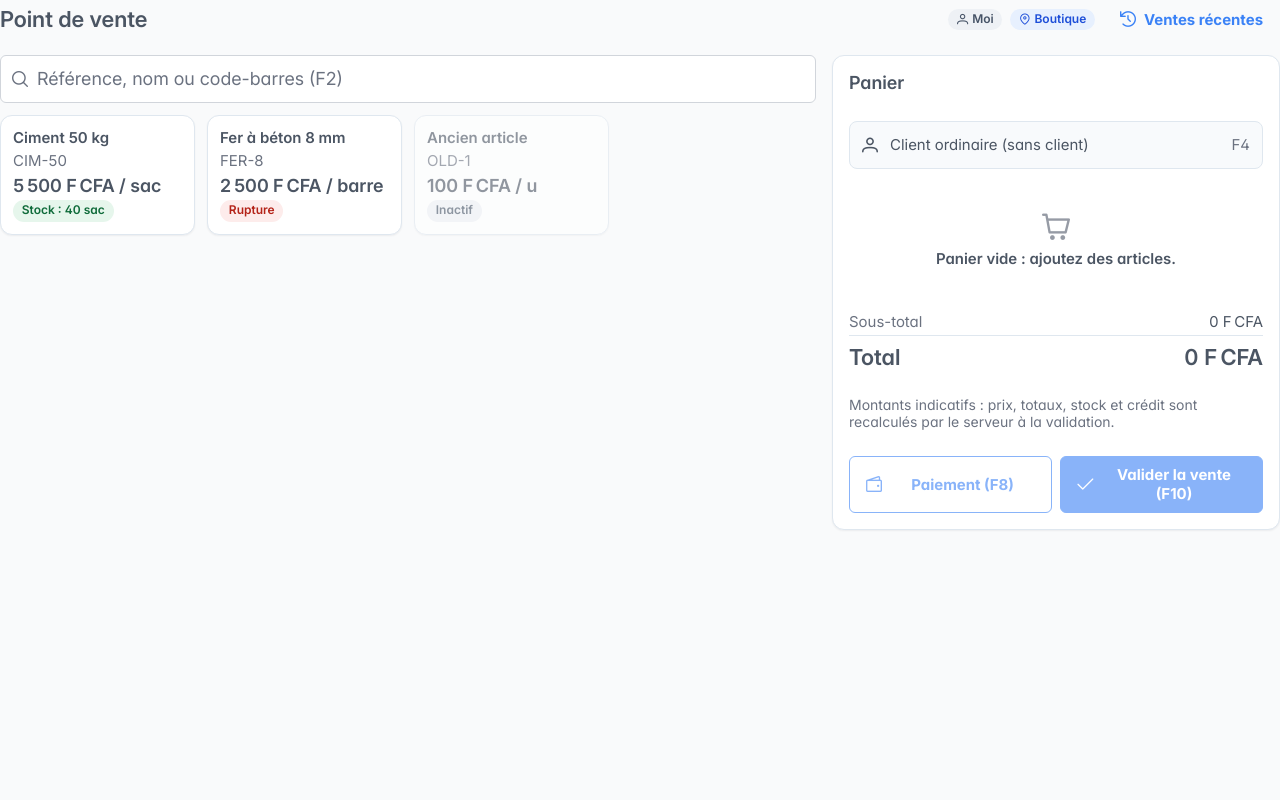
Test: point de vente › raccourcis : F2 recherche, Entrée = scan exact, F8 paiement, F10 validation
expect the button with aria-label "Ajouter Ciment 50 kg au panier" is shown: met, box [0,115,195,235]
Press F2
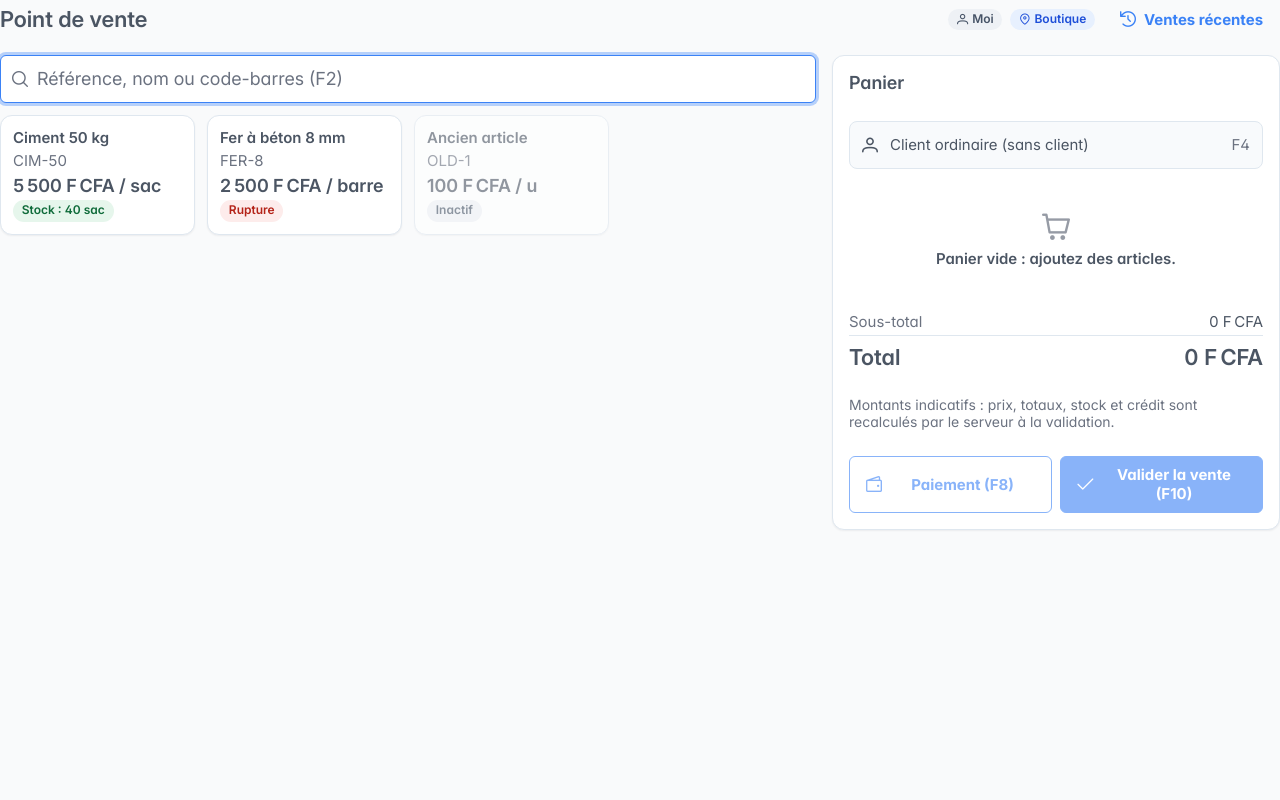
In the search field named "Rechercher un article (F2)": {"x": 408, "y": 79} [0,55,816,103], type "3017620422003"
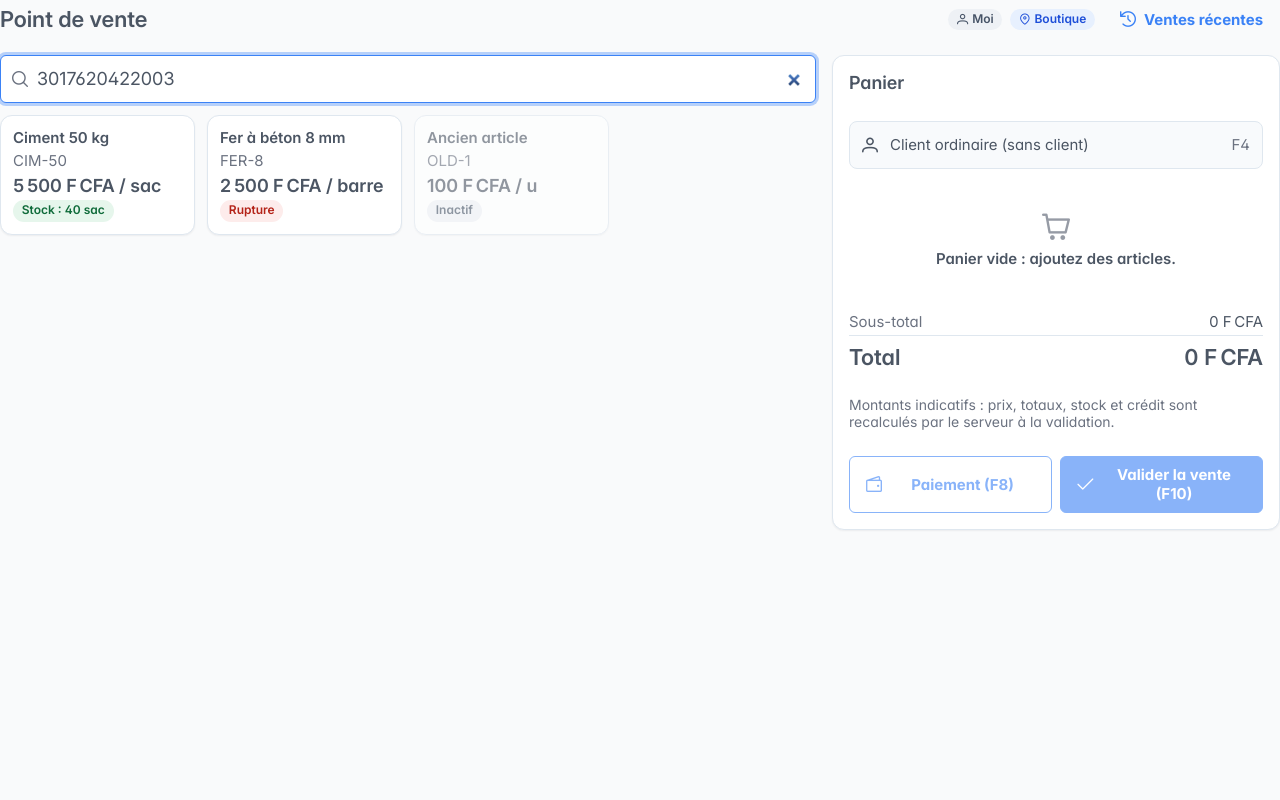
Press Enter in the search field named "Rechercher un article (F2)", box [0,55,816,103]
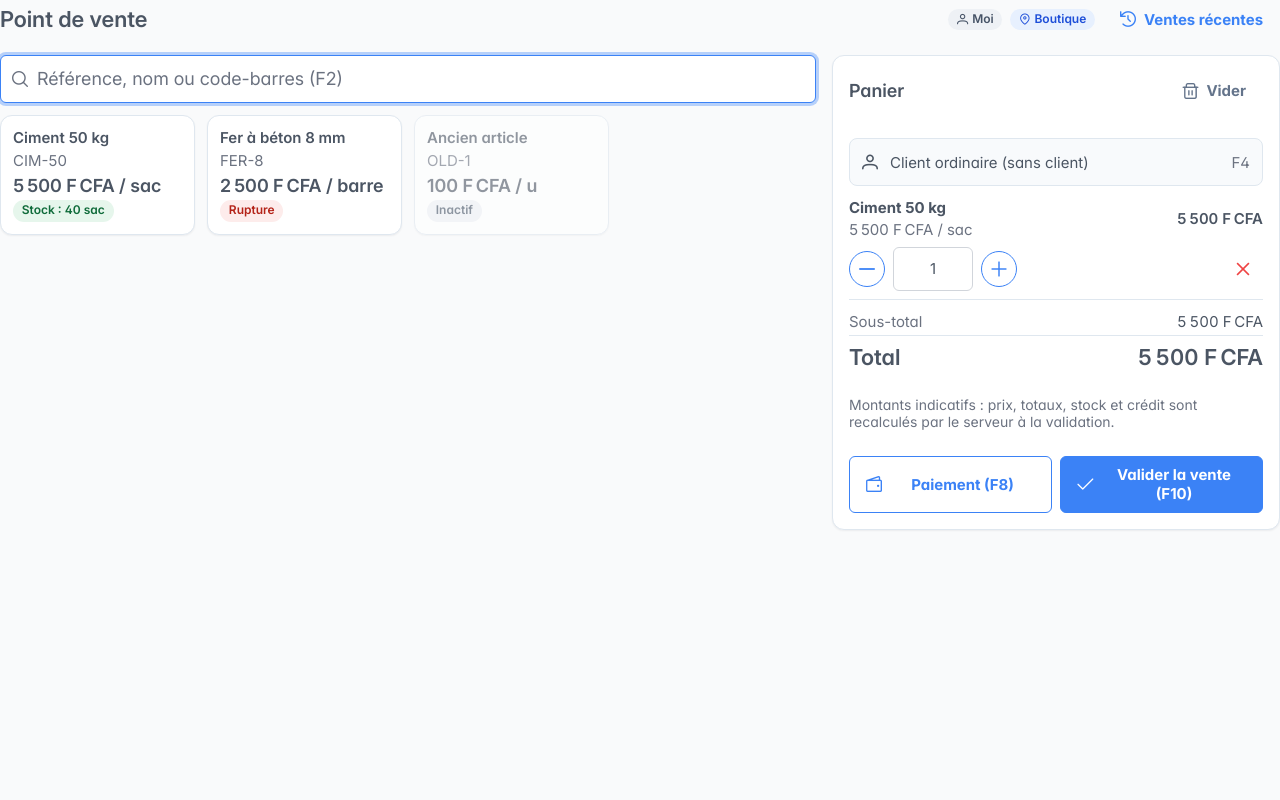
expect the field named "Quantité de Ciment 50 kg" is shown: met, box [893,247,973,291]
Press F8
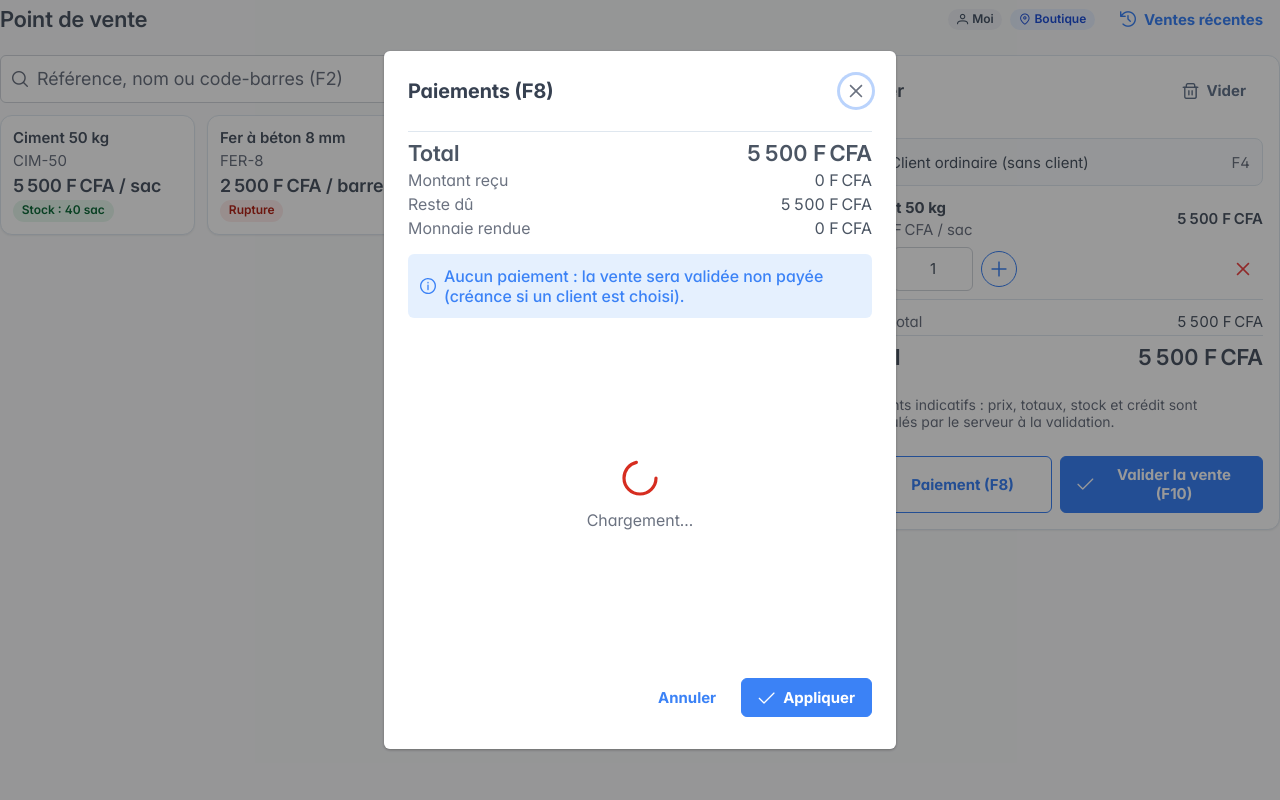
expect the dialog "Paiements (F8)" is shown: met, box [384,51,896,749]
Click the button "Annuler": {"x": 687, "y": 698} [641,678,733,717]
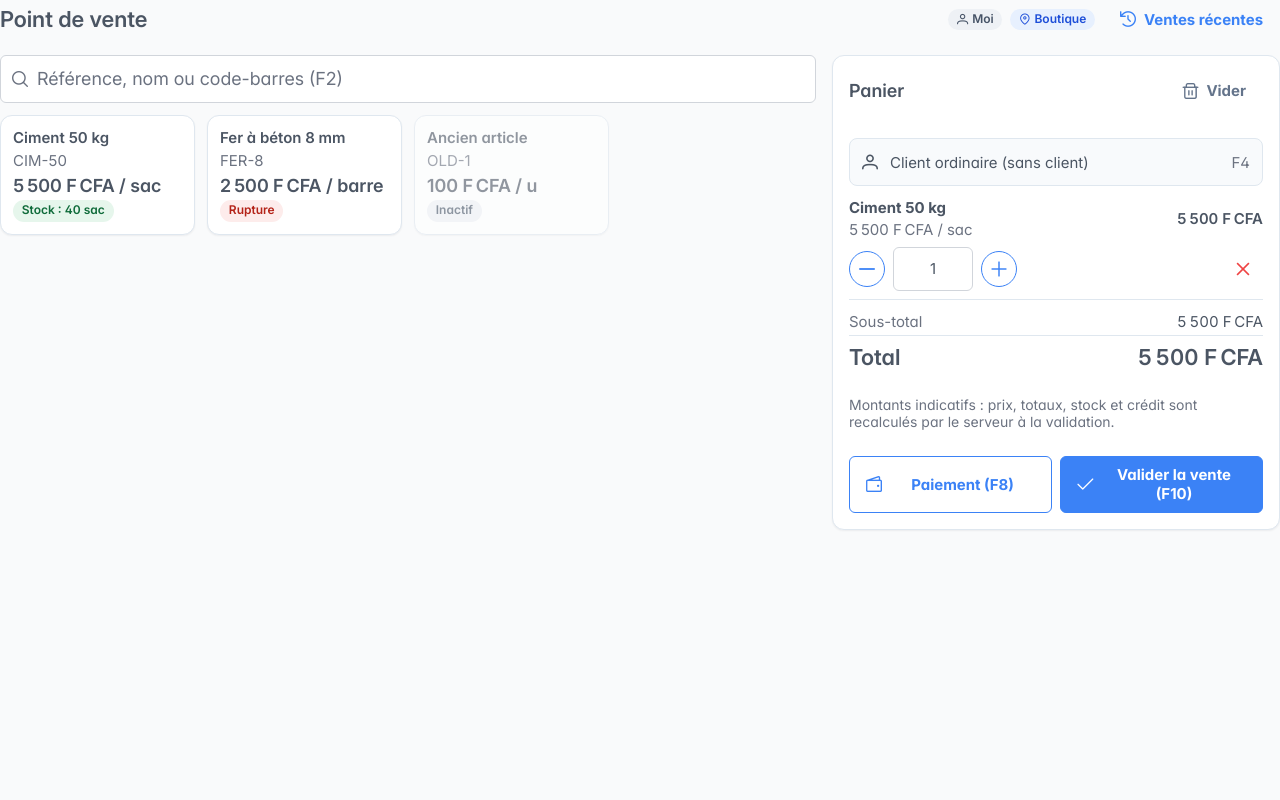
Press F10
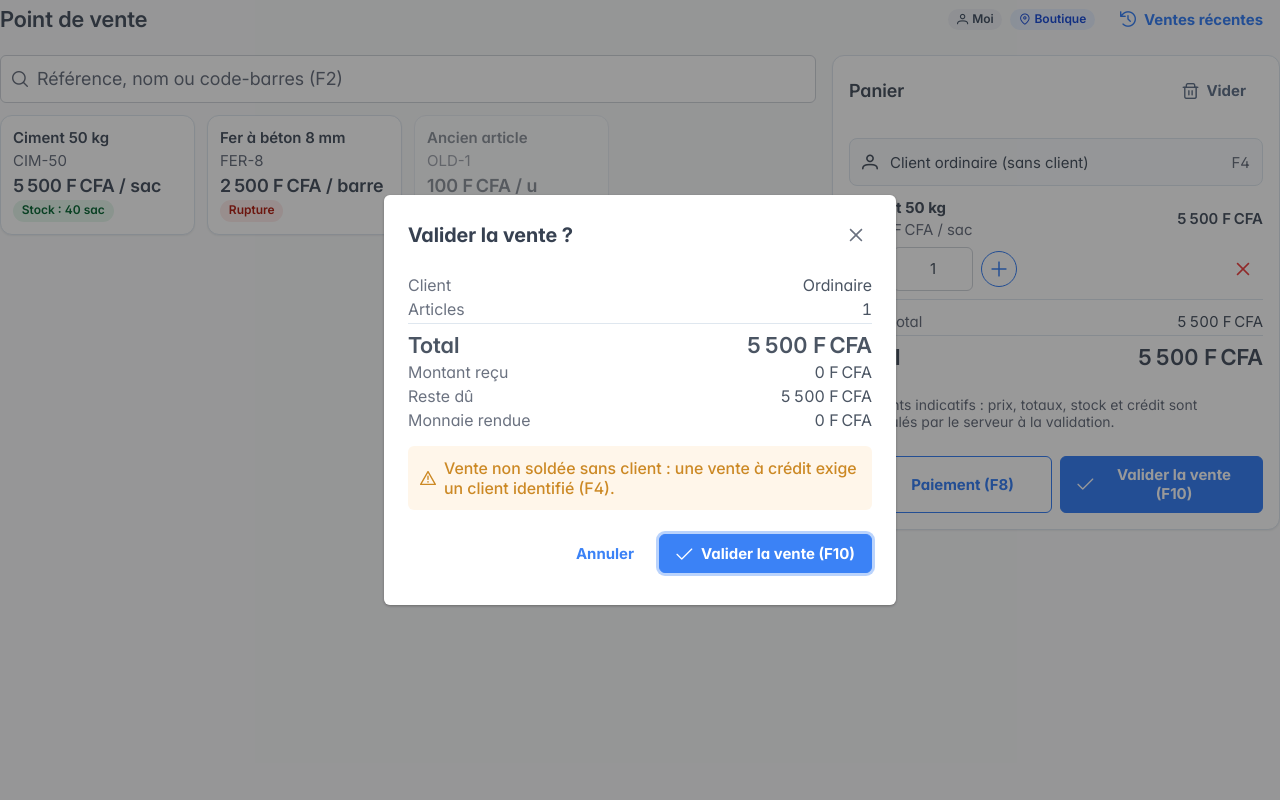
expect the dialog "Valider la vente ?" is shown: met, box [384,195,896,605]
